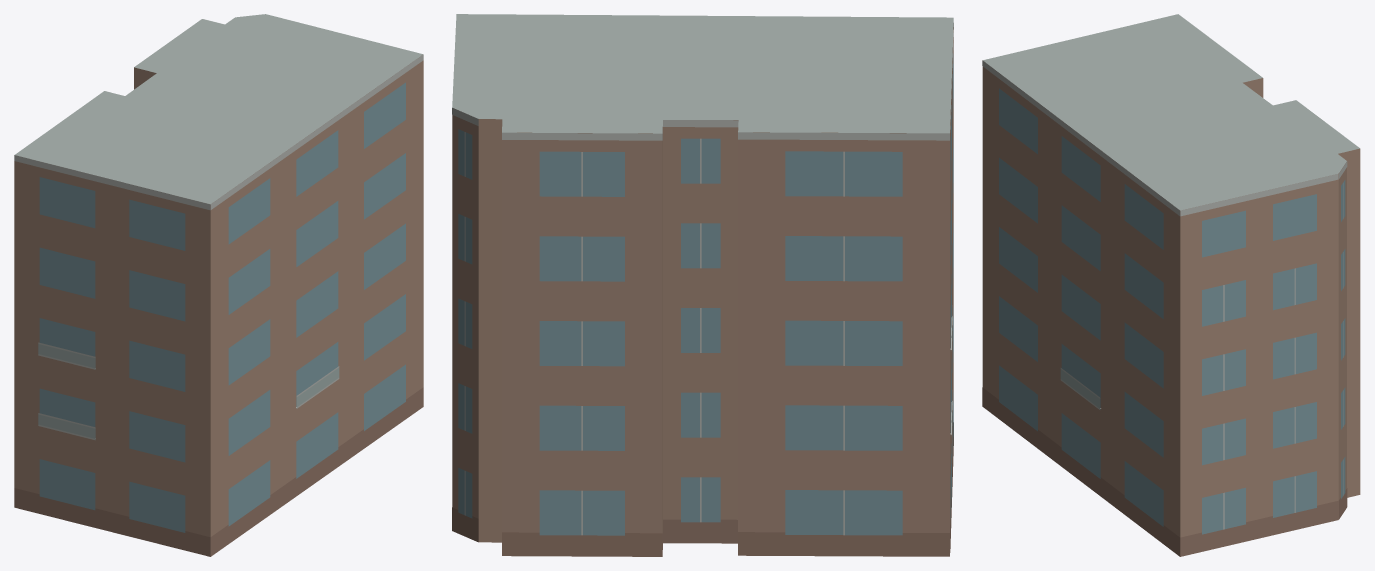
Rendered from survey-upis-32990691.glb.
The picture shows the model from 3 angles, left to right: view 1: azimuth 30°, elevation 25°; view 2: azimuth 150°, elevation 25°; view 3: azimuth 270°, elevation 25°; orthographic projection. The views are drawn at different scales.
Visible parts, largest first — view 1: survey-upis-32990691.tmp; view 2: survey-upis-32990691.tmp; view 3: survey-upis-32990691.tmp.
Part boxes in pixels (x1,y1,x2,y2): survey-upis-32990691.tmp: (14, 14, 423, 556); survey-upis-32990691.tmp: (452, 14, 953, 556); survey-upis-32990691.tmp: (982, 14, 1360, 556).
Size of the model in its own units: 17.42 by 14.3 by 14.15.
